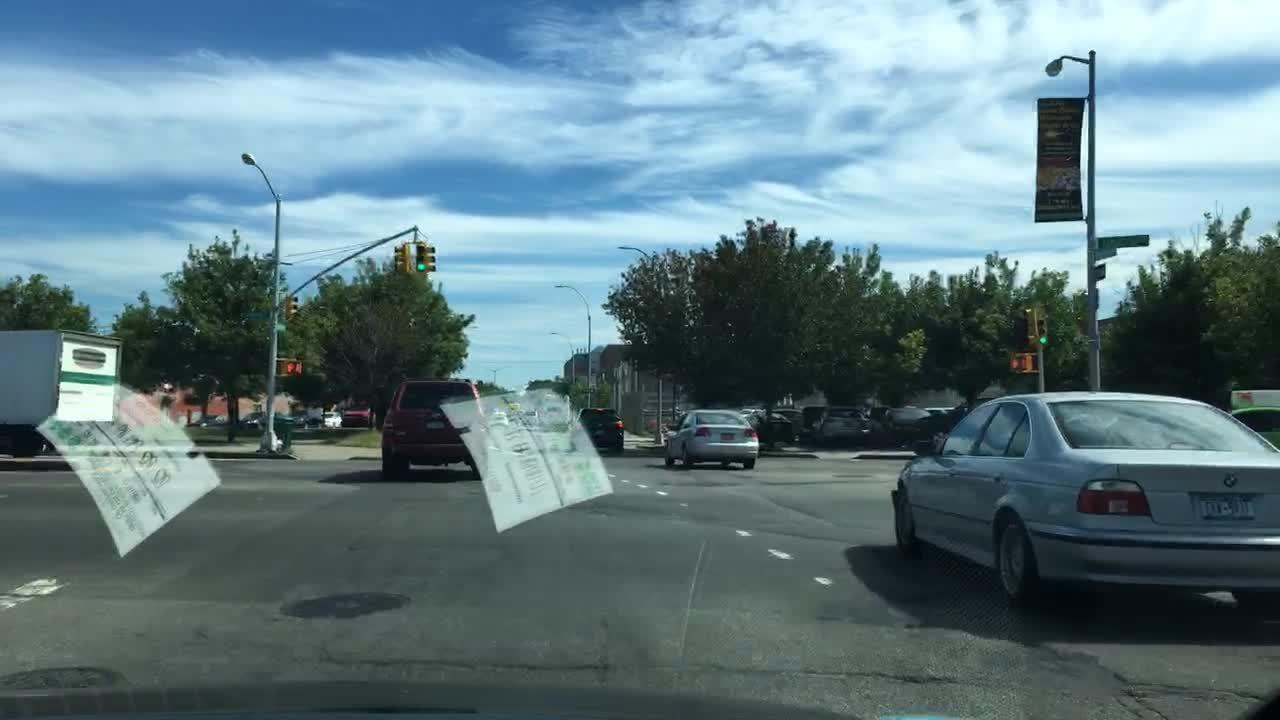bmw: (1222, 472, 1241, 489)
